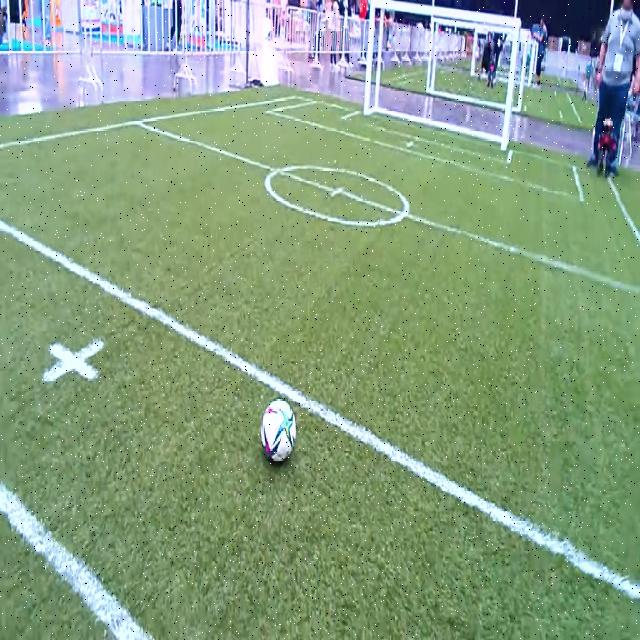ball: (260, 398, 296, 462)
